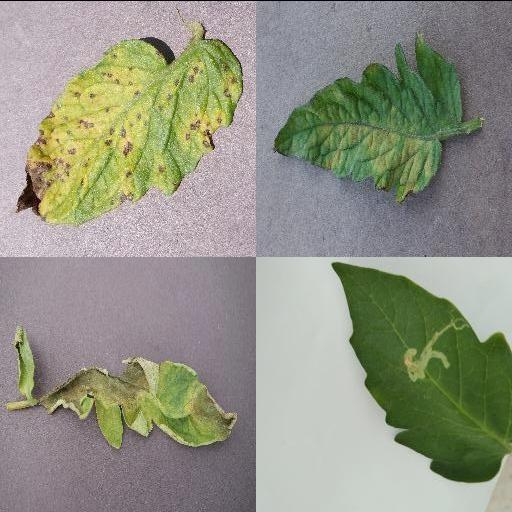Late Blight: (37, 355, 239, 449), (9, 324, 37, 396)
Leaf Miner: (329, 262, 512, 482)
Leaf Mold: (271, 28, 465, 198)
Septoria: (16, 36, 242, 222)
